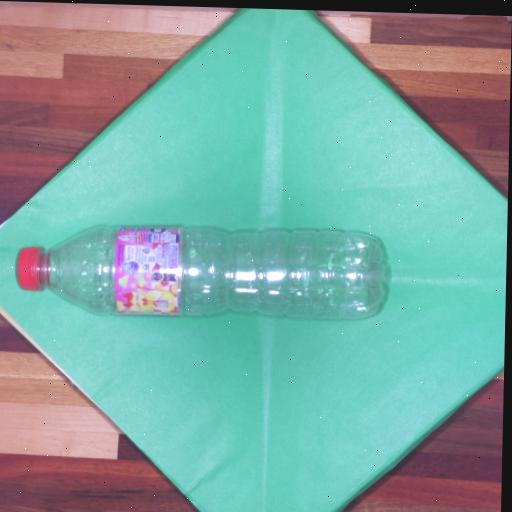bottle: (0, 180, 408, 357)
